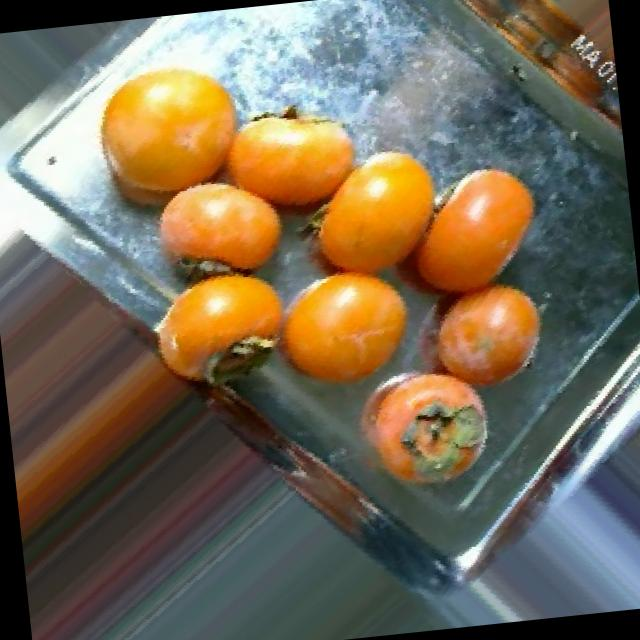Fruit: (62, 36, 275, 242), (344, 141, 566, 330), (242, 249, 441, 419), (380, 259, 570, 415), (128, 248, 316, 400), (130, 154, 313, 296)
